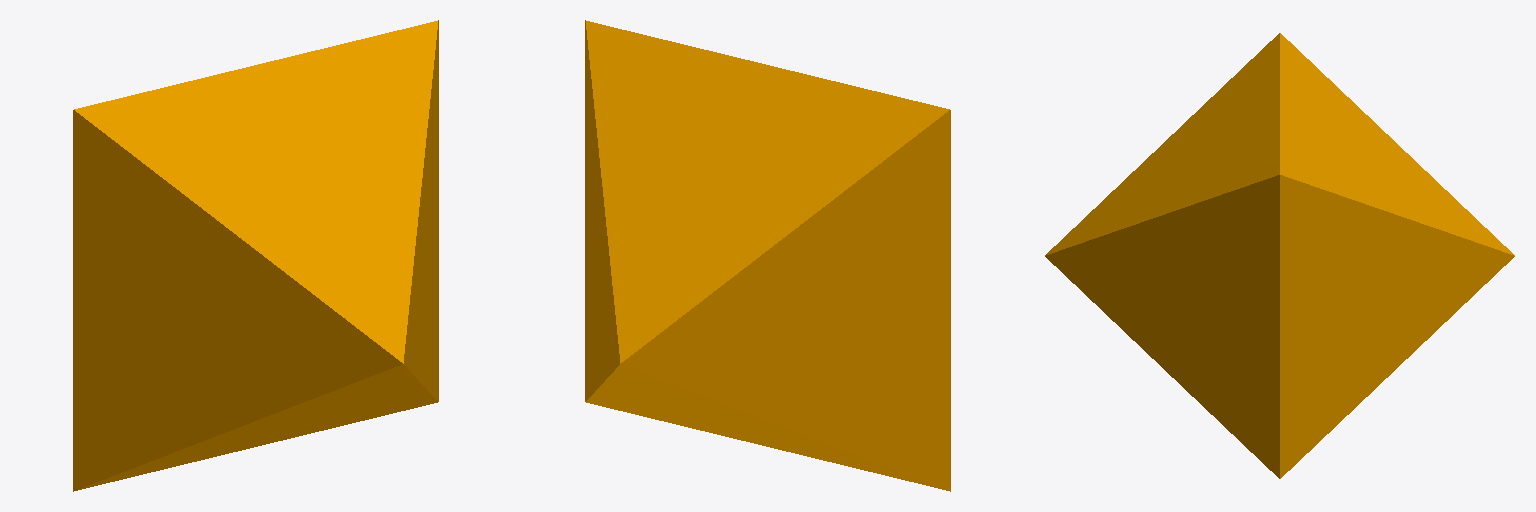
The robot description file, URDF, robot "cocoa_flour_butter_cornflakes_mixture":
<?xml version="1.0"?>
<robot name="cocoa_flour_butter_cornflakes_mixture">
  <link name="cocoa_flour_butter_cornflakes_mixture">
    <inertial>
        <origin rpy="0 0 0" xyz="0 0 0"/>
        <mass value="0.01"/>
        <inertia ixx="2e-5" ixy="0" ixz="0" iyy="2e-5" iyz="0" izz="2e-5"/>
    </inertial>
    <visual>
      <geometry>
        <mesh filename="cocoa_flour_butter_cornflakes_mixture.obj"/>
      </geometry>
    </visual>
    <collision>
      <geometry>
        <mesh filename="cocoa_flour_butter_cornflakes_mixture.obj"/>
      </geometry>
    </collision>
  </link>
</robot>

--- Facts derived from the render (not from the file) ---
3 views of the same robot in one strip: view 1: azimuth 30°, elevation 25°; view 2: azimuth 150°, elevation 25°; view 3: azimuth 270°, elevation 25° (orthographic).
Model cocoa_flour_butter_cornflakes_mixture with 1 links and 0 joints (none), rooted at cocoa_flour_butter_cornflakes_mixture, posed every joint at zero.
Visible links, largest first — view 1: cocoa_flour_butter_cornflakes_mixture; view 2: cocoa_flour_butter_cornflakes_mixture; view 3: cocoa_flour_butter_cornflakes_mixture.
Link boxes in pixels (box(x1,y1,x2,y2)): cocoa_flour_butter_cornflakes_mixture: box(73, 20, 438, 491); cocoa_flour_butter_cornflakes_mixture: box(585, 20, 950, 491); cocoa_flour_butter_cornflakes_mixture: box(1045, 33, 1514, 478).
Size in the robot's own frame: 0.02 by 0.028 by 0.02 metres.
Meshes: 1 distinct files referenced, 1 mesh visuals loaded (1 OBJ).
